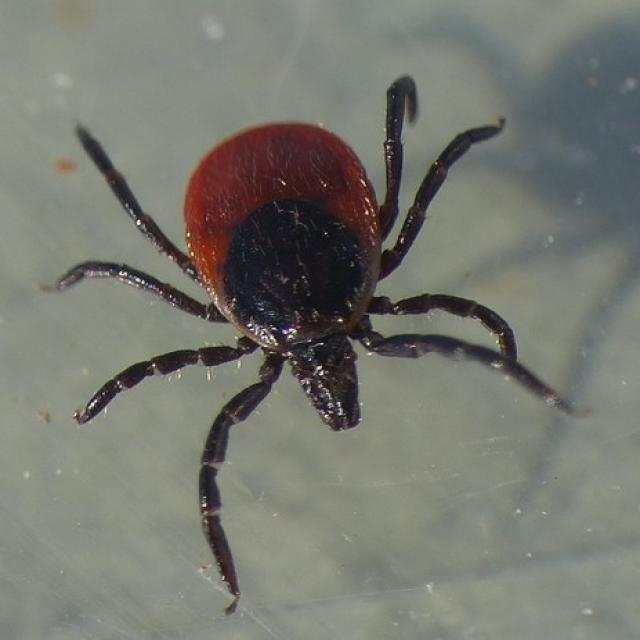Ixodes Ricinus-F: (39, 77, 589, 616)
